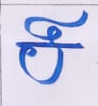au_matra: (36, 11, 79, 82)
